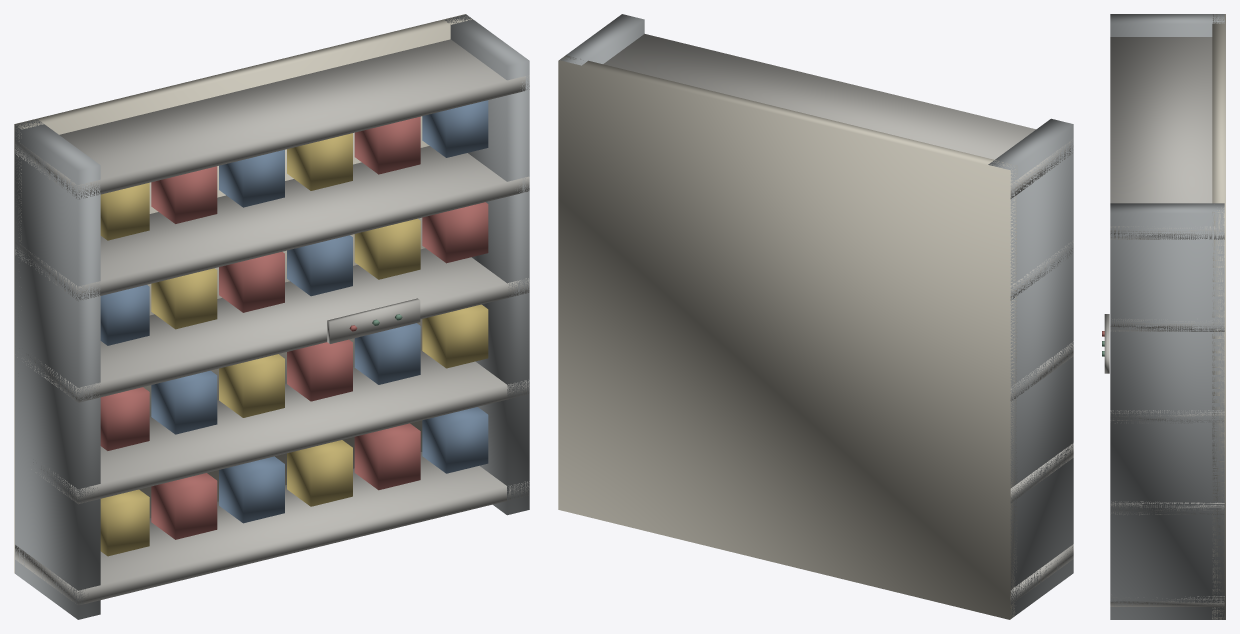
File: retail_gondola__wide.glb
3 renders of one model, left to right at view 1: azimuth 30°, elevation 25°; view 2: azimuth 150°, elevation 25°; view 3: azimuth 270°, elevation 25°, orthographic. The views are drawn at different scales.
Parts seen in each view (by area): view 1: world; view 2: world; view 3: world.
Boxes of the visible parts, x1,y1,x2,y2 form: world: (14,14,529,619); world: (558,14,1073,619); world: (1102,14,1225,619).
Size of the model in its own units: 1.74 by 1.65 by 0.456.
